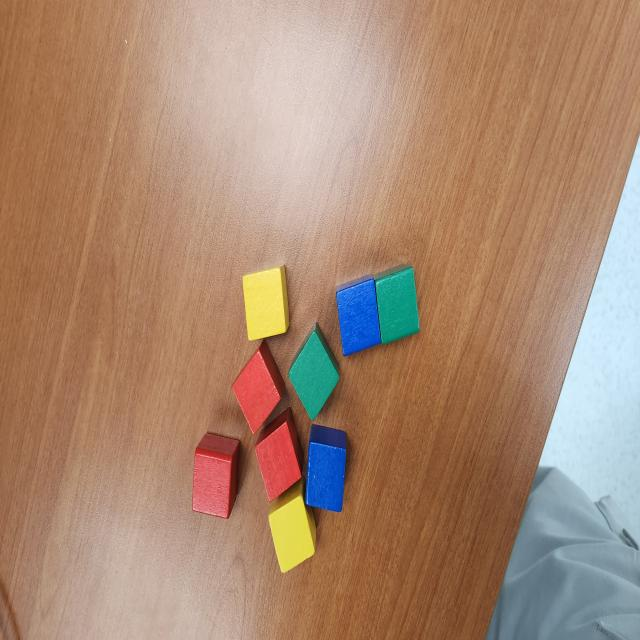blue: (304, 423, 348, 512), (336, 274, 381, 357)
green: (288, 321, 340, 421), (375, 263, 420, 346)
red: (232, 340, 286, 437), (254, 407, 304, 501), (192, 432, 241, 520)
yellow: (267, 476, 316, 574), (242, 264, 290, 340)
